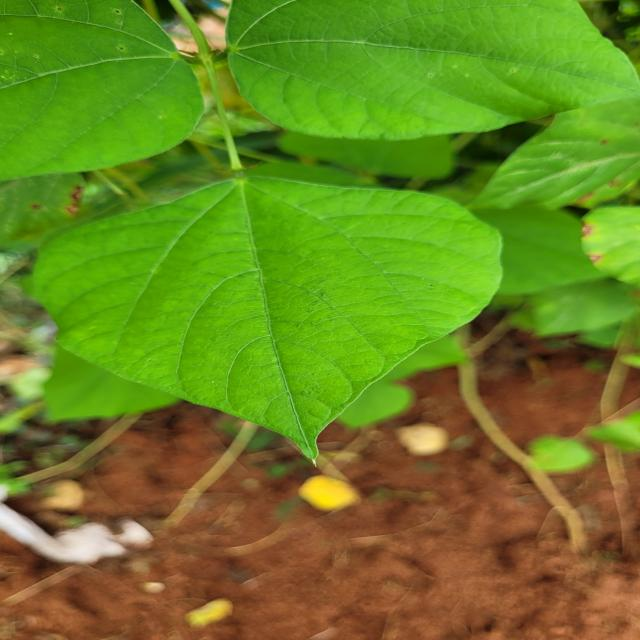Dolicos bean_healthy: (34, 168, 522, 464), (215, 0, 640, 144), (0, 0, 208, 182)
